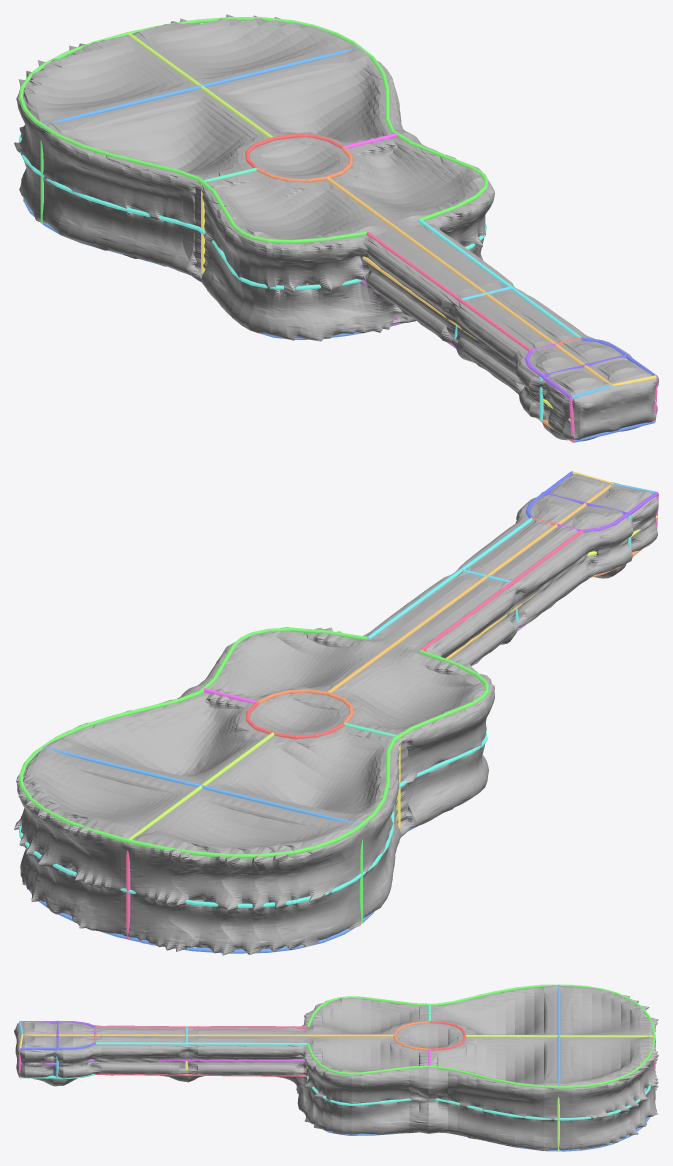
File: t2f_guitar.gltf
3 views of the same model, one above another, from view 1: azimuth 30°, elevation 25°; view 2: azimuth 150°, elevation 25°; view 3: azimuth 270°, elevation 25° (orthographic). The views are drawn at different scales.
Size of the model in its own units: 0.3596 by 0.116 by 0.9451.
